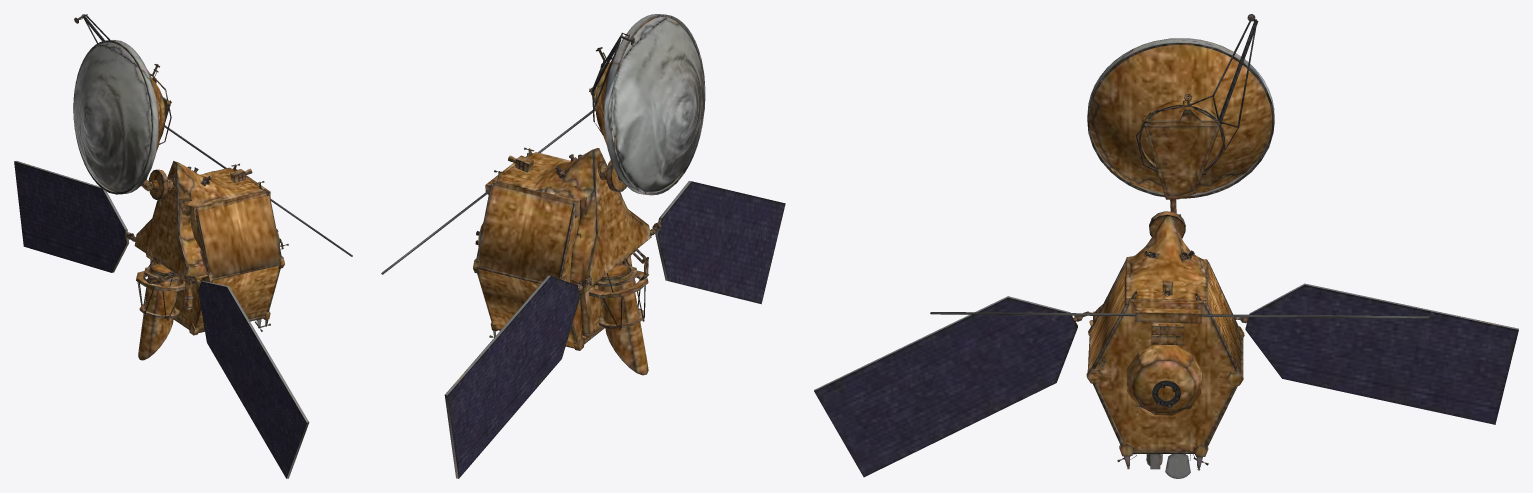
File: mro.glb
3 views of the same model, side by side, from view 1: azimuth 30°, elevation 25°; view 2: azimuth 150°, elevation 25°; view 3: azimuth 270°, elevation 25° (orthographic). The views are drawn at different scales.
Parts seen in each view (by area): view 1: mro_proxy7, mro_proxy5, mro_proxy3, mro_proxy6, mro_proxy2; view 2: mro_proxy7, mro_proxy5, mro_proxy3, mro_proxy6, mro_proxy2; view 3: mro_proxy7, mro_proxy6, mro_proxy5.
Boxes of the visible parts, left/top/right/bottom form: mro_proxy7: left=14, top=14, right=352, bottom=478; mro_proxy5: left=134, top=161, right=213, bottom=335; mro_proxy3: left=129, top=173, right=193, bottom=360; mro_proxy6: left=230, top=163, right=284, bottom=328; mro_proxy2: left=137, top=259, right=181, bottom=320; mro_proxy7: left=381, top=14, right=785, bottom=478; mro_proxy5: left=477, top=148, right=660, bottom=350; mro_proxy3: left=581, top=160, right=658, bottom=375; mro_proxy6: left=473, top=147, right=534, bottom=337; mro_proxy2: left=601, top=249, right=648, bottom=330; mro_proxy7: left=814, top=14, right=1518, bottom=477; mro_proxy6: left=1086, top=281, right=1243, bottom=470; mro_proxy5: left=1082, top=217, right=1244, bottom=478.
Bounding box in the file's own units: 32.77 × 61 × 89.74.
2 materials, 2 textured.
